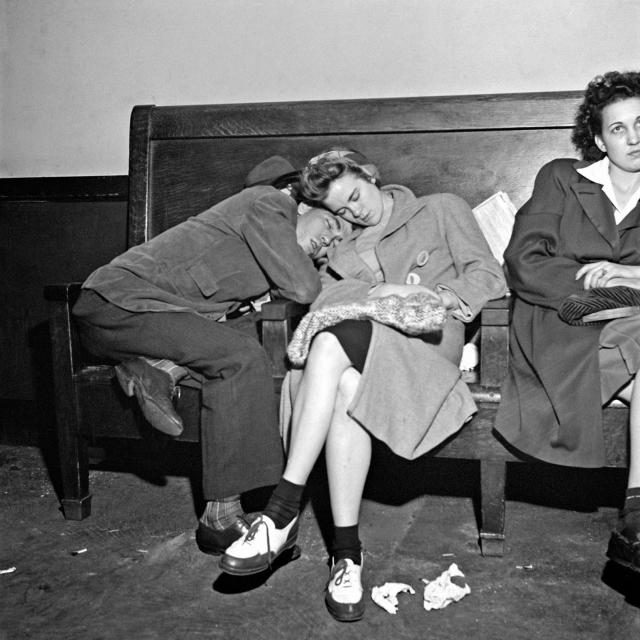body: (216, 141, 511, 625), (70, 183, 358, 563), (489, 70, 638, 578), (228, 152, 306, 194)
